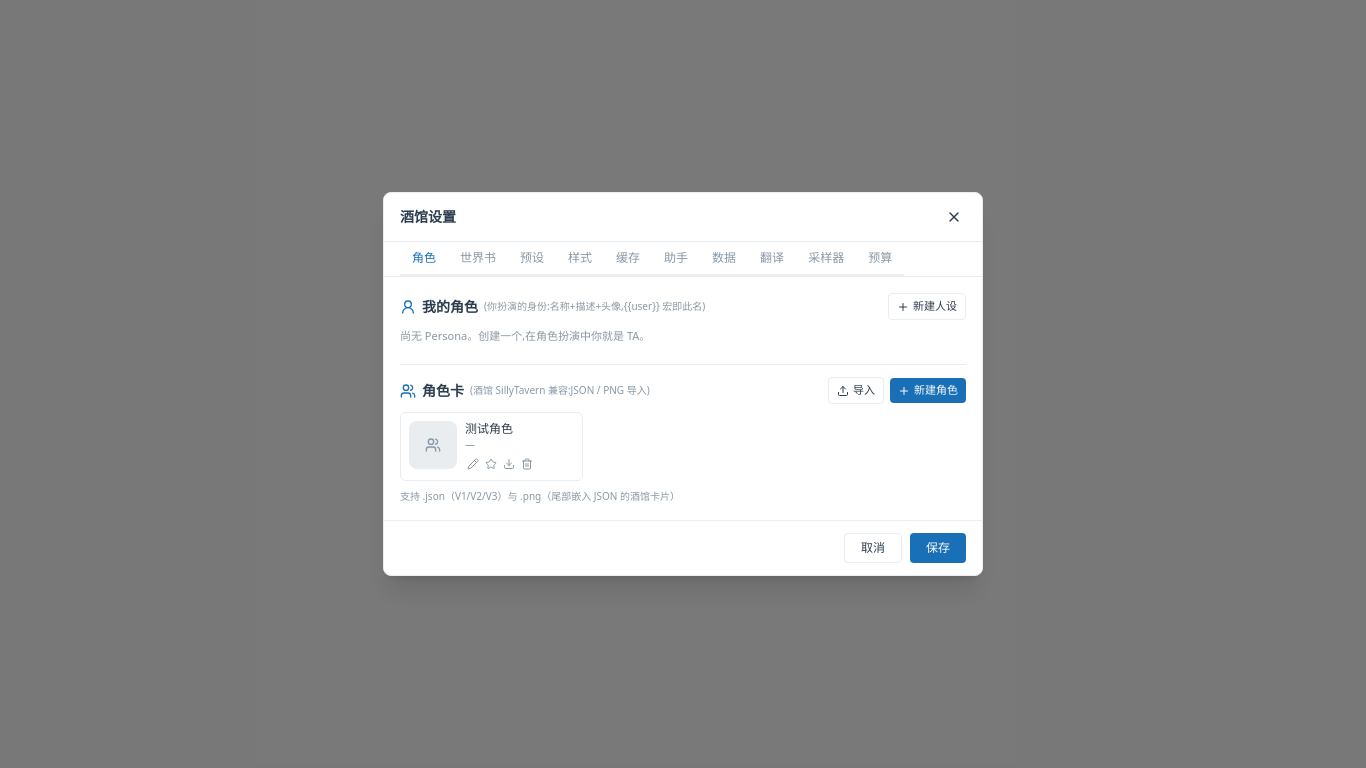
Test: SettingsDialog 逃生通道 › 自定义预设展开后有「保存」与「收起」两个按钮
Click the button "预设": [532, 259] box [508,242,556,276]
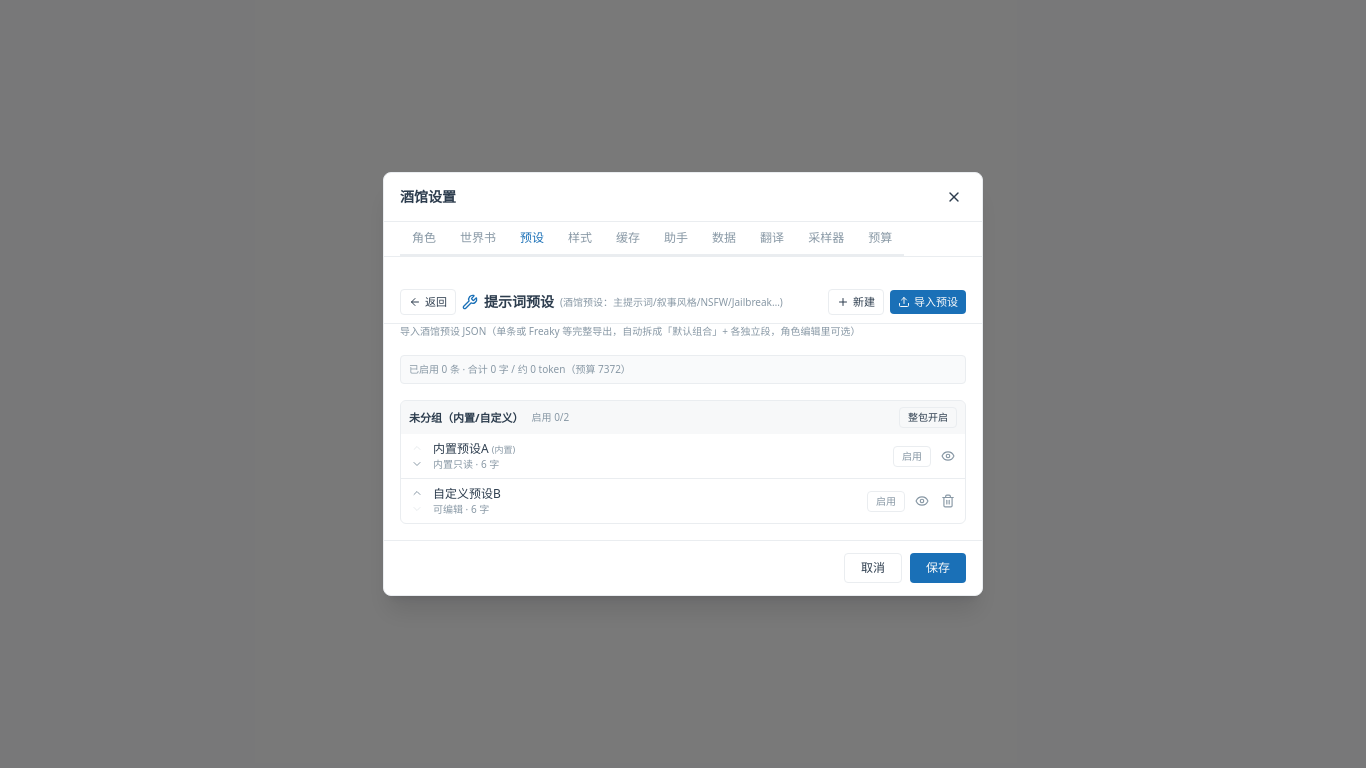
Click the button titled "查看/编辑条目" in the row of "自定义预设B": [922, 501] box [913,492,931,510]
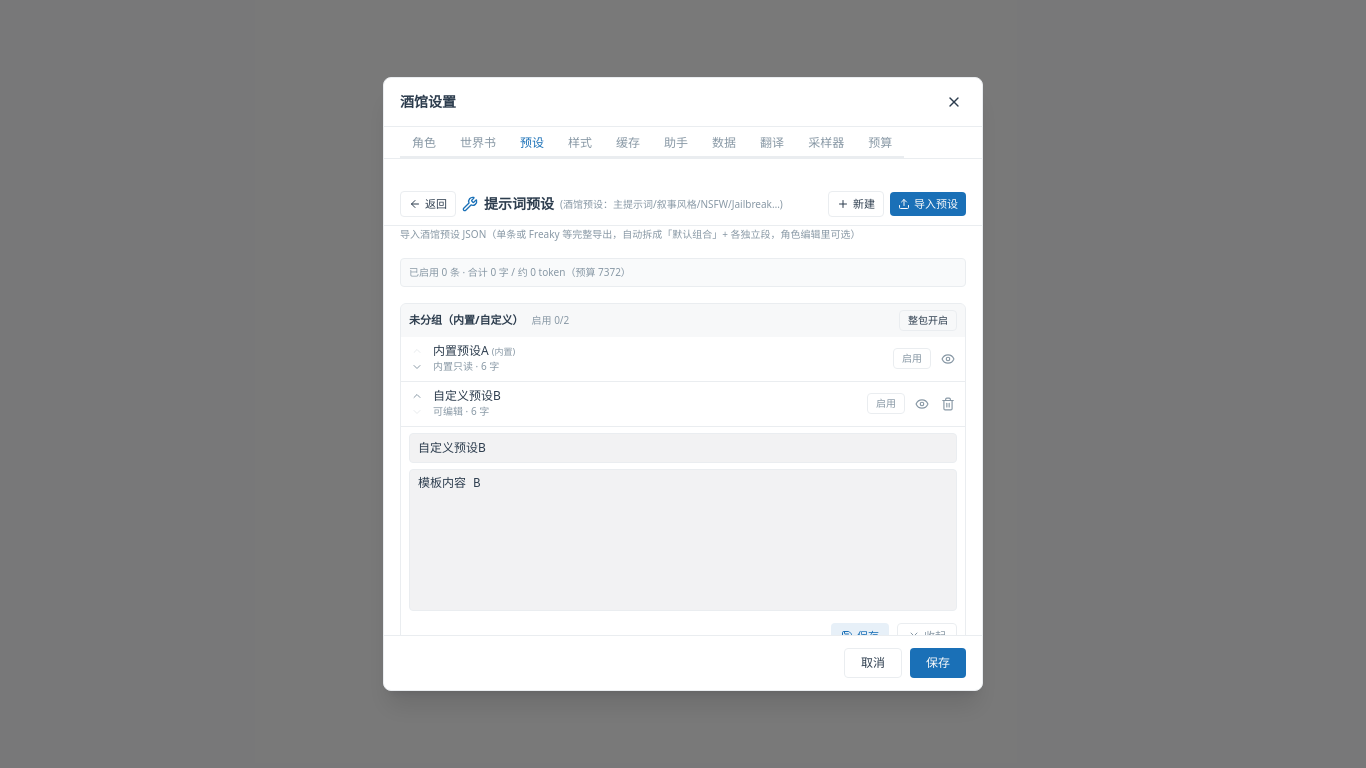
Expected: the text box showing "模板内容 B" is shown, [409,469,957,611]
